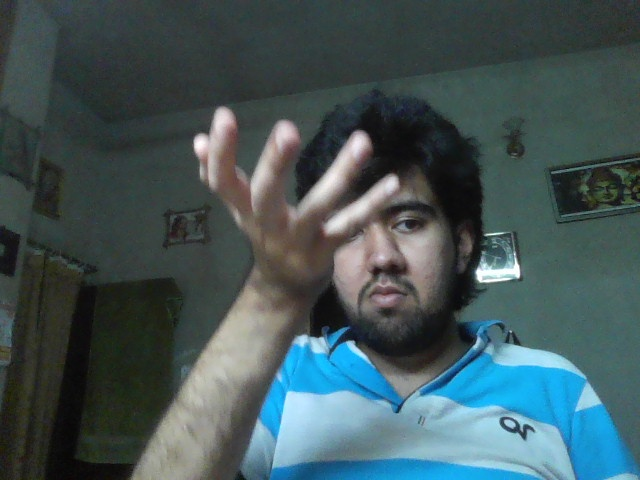What: (192, 105, 400, 285)
